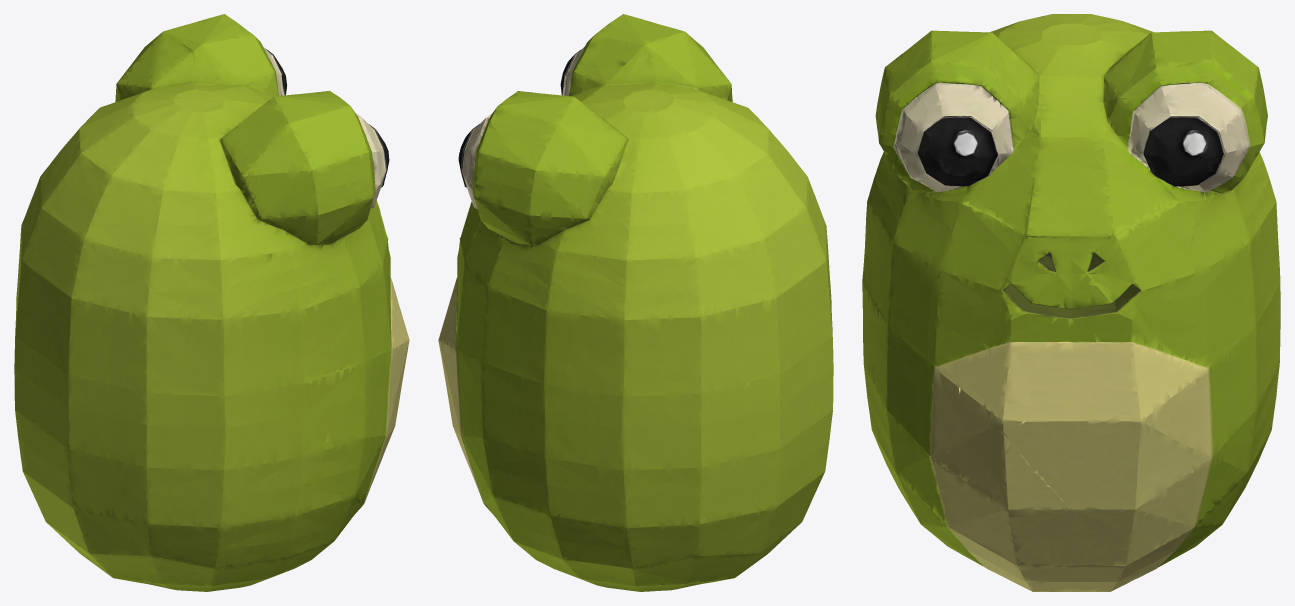
The model's file is frog.fbx.
The picture shows the model from 3 angles, left to right: view 1: azimuth 30°, elevation 25°; view 2: azimuth 150°, elevation 25°; view 3: azimuth 270°, elevation 25°; orthographic projection. The views are drawn at different scales.
Visible parts, largest first — view 1: tripo_node_a7d9caeb; view 2: tripo_node_a7d9caeb; view 3: tripo_node_a7d9caeb.
Part boxes in pixels (box(x1,y1,x2,y2)): tripo_node_a7d9caeb: box(14, 14, 409, 591); tripo_node_a7d9caeb: box(438, 14, 833, 591); tripo_node_a7d9caeb: box(862, 14, 1280, 591).
Size of the model in its own units: 71.83 by 97.98 by 69.3.
